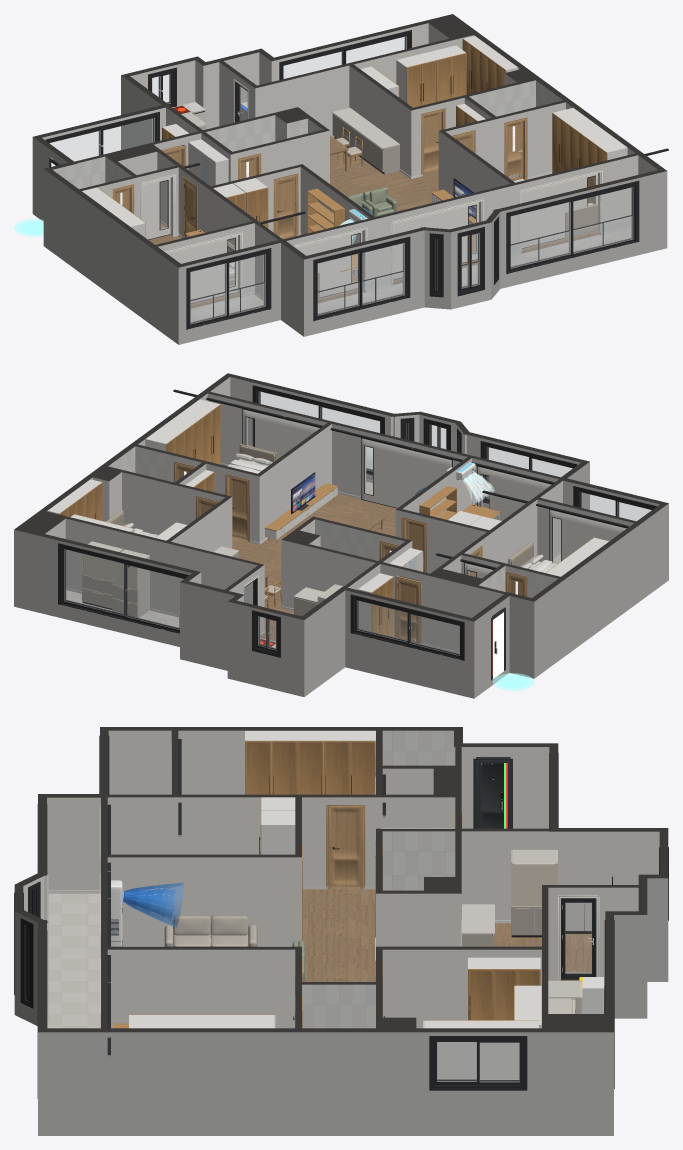
The model's file is mokryeon_180b_baked.glb.
3 renders of one model, top to bottom at view 1: azimuth 30°, elevation 25°; view 2: azimuth 150°, elevation 25°; view 3: azimuth 270°, elevation 25°, orthographic. The views are drawn at different scales.
Parts seen in each view (by area): view 1: win_balcony_front_e_glass, wall_E18_upper, wall_balcony_north_bottom_upper, wall_front_boundary_upper, wall_E18_lower, win_balcony_front_w_glass, slab, win_balcony_west_glass, floor_living, wall_bed_ne_left_upper, wall_bed_se_top_upper, pre_rail_win_balcony_front_e_glass (+85 smaller); view 2: win_balcony_north_glass, wall_E18_upper, wall_balcony_north_bottom_upper, wall_E18_lower, wall_front_boundary_upper, slab, door_balcony_living_panel_body, wall_E03_lower, floor_living, wall_bed_ne_bottom_upper, wall_kitchen_bath_upper, win_vestibule_glass (+68 smaller); view 3: wall_E10_upper, wall_E10_lower, wall_alpha_right_upper, wall_E18_upper, wall_bed_se_left_upper, wall_bed_sw_right_upper, floor_balcony_front, floor_living, wall_bed_ne_left_upper, wall_E04_upper, slab, wall_bed_sw_right_lower (+72 smaller).
Part boxes in pixels (x1=…): win_balcony_front_e_glass: x1=511, y1=188, x2=632, y2=267; wall_E18_upper: x1=46, y1=170, x2=180, y2=301; wall_balcony_north_bottom_upper: x1=257, y1=33, x2=473, y2=116; wall_front_boundary_upper: x1=284, y1=153, x2=638, y2=257; wall_E18_lower: x1=46, y1=208, x2=175, y2=336; win_balcony_front_w_glass: x1=318, y1=243, x2=403, y2=314; slab: x1=32, y1=147, x2=667, y2=344; win_balcony_west_glass: x1=191, y1=255, x2=264, y2=323; floor_living: x1=330, y1=152, x2=477, y2=284; wall_bed_ne_left_upper: x1=349, y1=64, x2=415, y2=147; wall_bed_se_top_upper: x1=438, y1=100, x2=565, y2=169; pre_rail_win_balcony_front_e_glass: x1=511, y1=216, x2=632, y2=267; win_balcony_north_glass: x1=65, y1=550, x2=183, y2=629; wall_E18_upper: x1=532, y1=504, x2=665, y2=635; wall_balcony_north_bottom_upper: x1=44, y1=511, x2=259, y2=600; wall_E18_lower: x1=537, y1=543, x2=665, y2=670; wall_front_boundary_upper: x1=207, y1=391, x2=560, y2=495; slab: x1=14, y1=575, x2=668, y2=698; door_balcony_living_panel_body: x1=361, y1=437, x2=453, y2=508; wall_E03_lower: x1=345, y1=627, x2=468, y2=691; floor_living: x1=232, y1=493, x2=396, y2=621; wall_bed_ne_bottom_upper: x1=106, y1=466, x2=227, y2=524; wall_kitchen_bath_upper: x1=281, y1=538, x2=377, y2=588; win_vestibule_glass: x1=357, y1=601, x2=459, y2=654; wall_E10_upper: x1=38, y1=1028, x2=605, y2=1081; wall_E10_lower: x1=38, y1=1082, x2=605, y2=1128; wall_alpha_right_upper: x1=108, y1=794, x2=375, y2=847; wall_E18_upper: x1=108, y1=727, x2=453, y2=780; wall_bed_se_left_upper: x1=101, y1=946, x2=295, y2=999; wall_bed_sw_right_upper: x1=101, y1=854, x2=295, y2=907; floor_balcony_front: x1=47, y1=893, x2=100, y2=1028; floor_living: x1=302, y1=887, x2=375, y2=981; wall_bed_ne_left_upper: x1=376, y1=946, x2=541, y2=999; wall_E04_upper: x1=558, y1=828, x2=668, y2=881; slab: x1=14, y1=974, x2=668, y2=1135; wall_bed_sw_right_lower: x1=122, y1=907, x2=295, y2=946.
Size of the model in its own units: 17.8 by 2.6 by 14.88.
137 materials, 21 textured.
